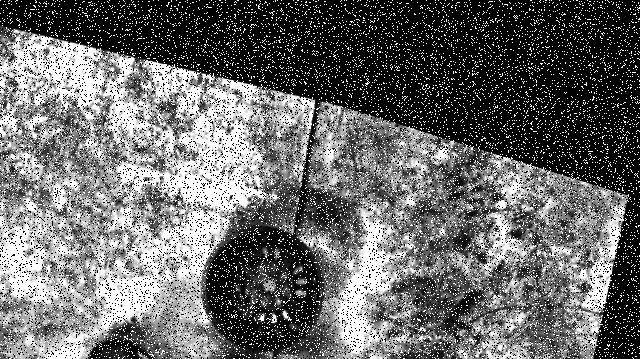pot: (202, 226, 325, 349)
